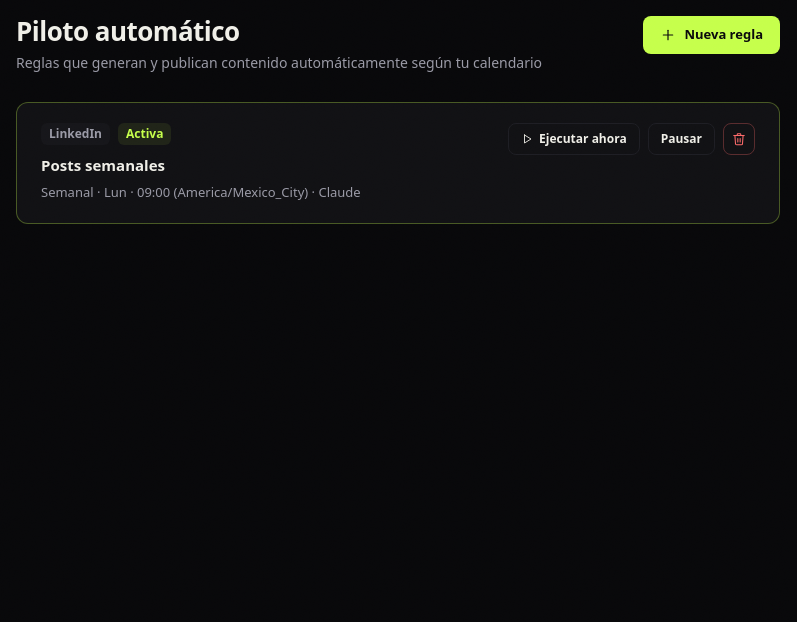
Test case: Piloto automático › sin cuentas, el enlace a Ajustes lleva a la sección de redes
Expected: the heading "Posts semanales" is shown, [41,155,165,175]
Click the button "Nueva regla" at (712, 35), box [644,16,780,54]
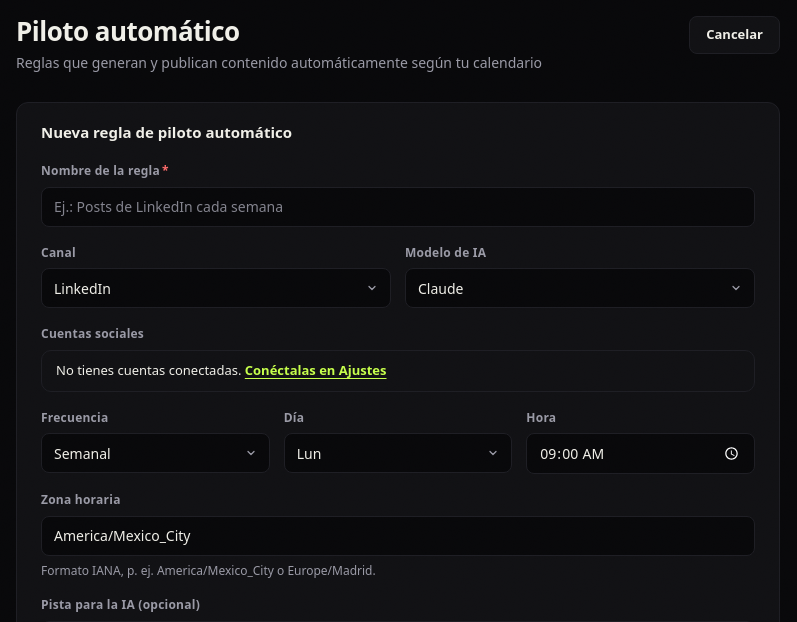
Expected: the field labelled "Nombre de la regla*" is shown, [41,187,755,227]
Expected: the dropdown labelled "Frecuencia" is shown, [41,434,270,474]
